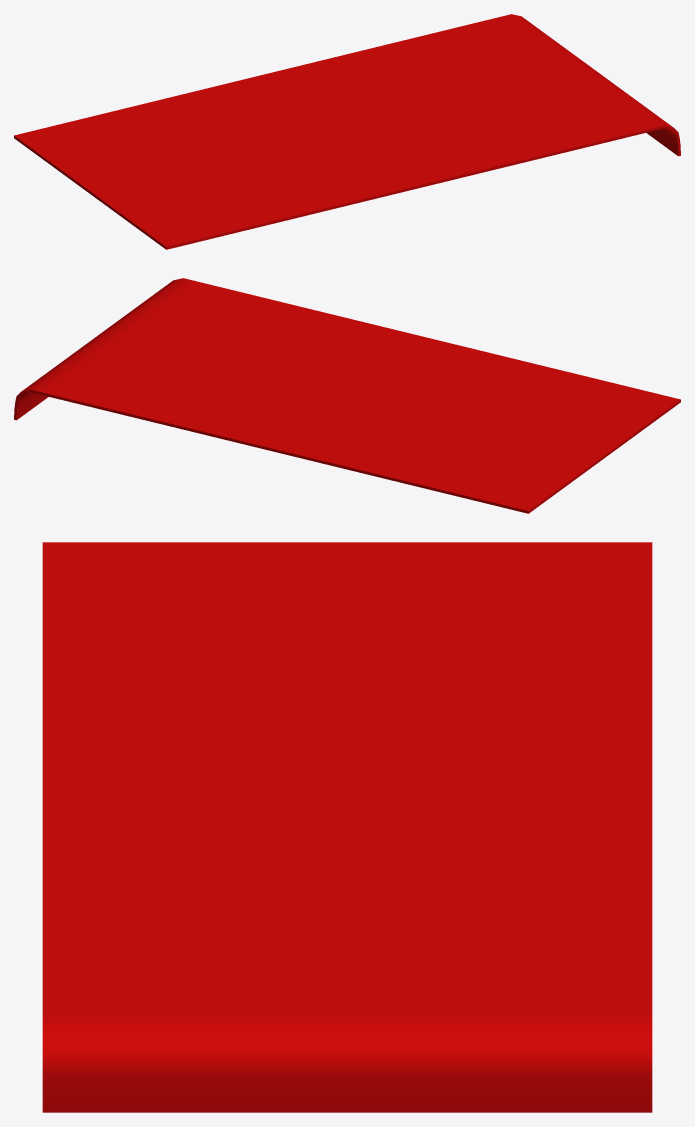
The picture shows the model from 3 angles, top to bottom: view 1: azimuth 30°, elevation 25°; view 2: azimuth 150°, elevation 25°; view 3: azimuth 270°, elevation 25°; orthographic projection. The views are drawn at different scales.
Parts seen in each view (by area): view 1: Surface; view 2: Surface; view 3: Surface.
Boxes of the visible parts, <box> form: Surface: <box>14,14,680,249</box>; Surface: <box>14,278,680,513</box>; Surface: <box>42,542,652,1112</box>.
Bounding box in the file's own units: 1.95 × 0.1239 × 1.
